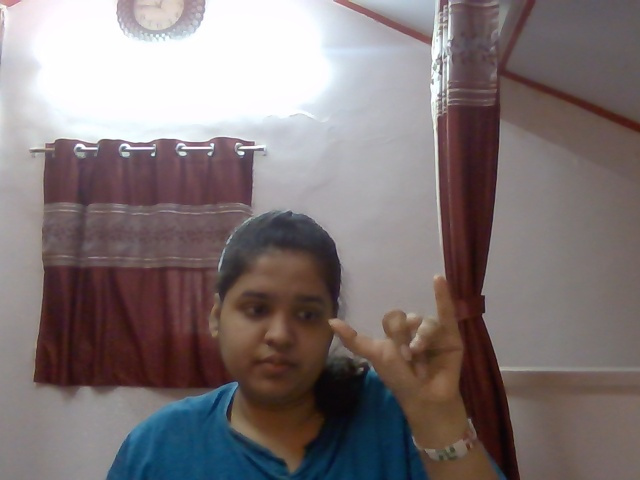y: (318, 255, 501, 407)
